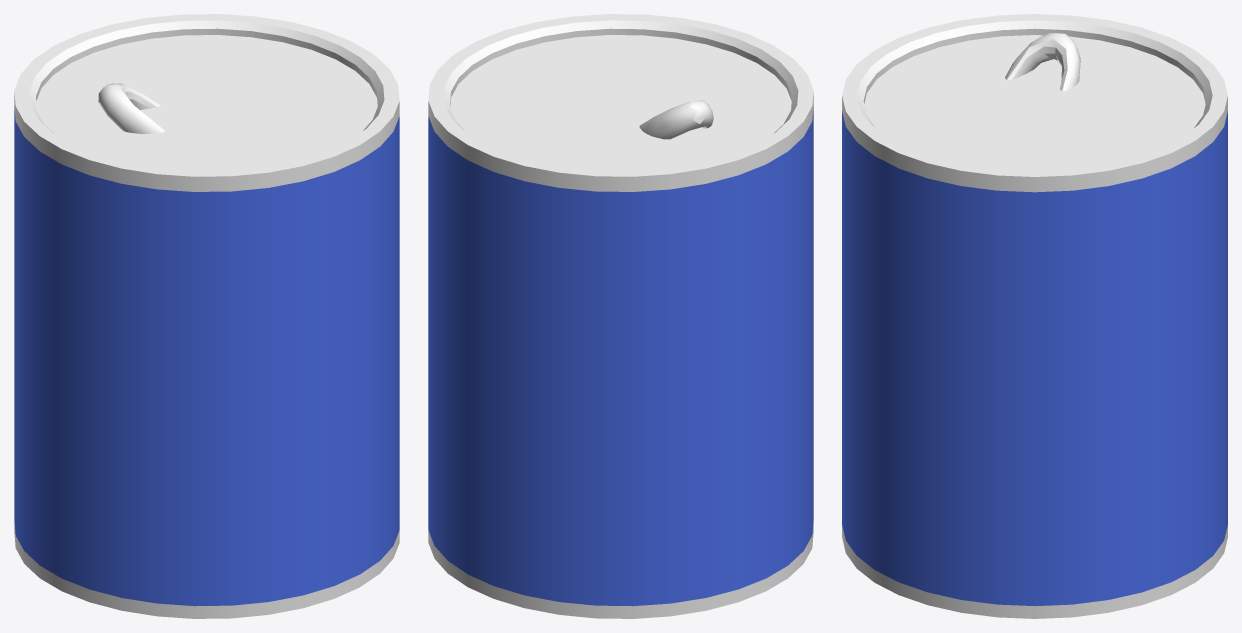
Rendered from EnergyDrink.fbx.
The picture shows the model from 3 angles, left to right: view 1: azimuth 30°, elevation 25°; view 2: azimuth 150°, elevation 25°; view 3: azimuth 270°, elevation 25°; orthographic projection.
Parts seen in each view (by area): view 1: Banka; view 2: Banka; view 3: Banka.
Part boxes in pixels (x1,y1,x2,y2): Banka: (14, 14, 399, 618); Banka: (428, 14, 813, 618); Banka: (842, 14, 1227, 618).
Bounding box in the file's own units: 200 × 265 × 200.
